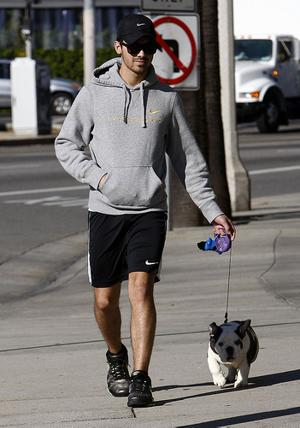person: (55, 15, 237, 407)
